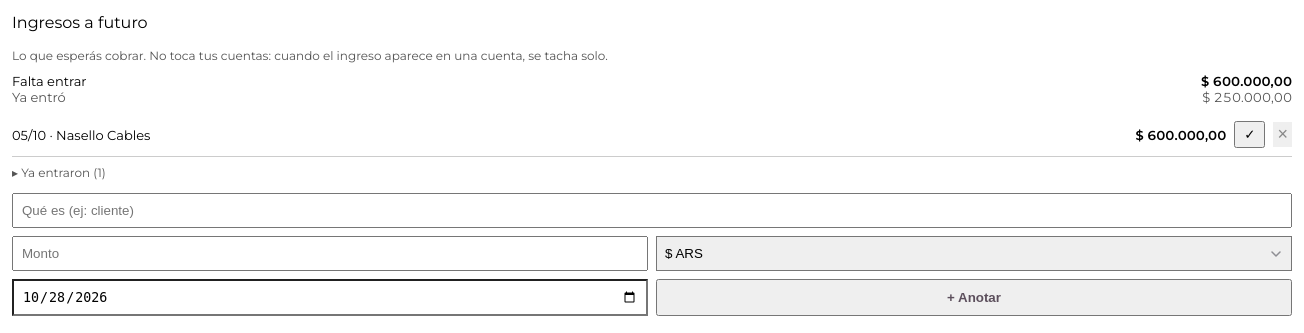
Test: borrar pide confirmación
This screenshot has width=1304, height=333.
Expected: the text "05/10 · Nasello Cables" is shown, [12, 126, 150, 142]
Click the button named "Borrar Nasello Cables" at [1283, 134], box [1274, 122, 1292, 147]
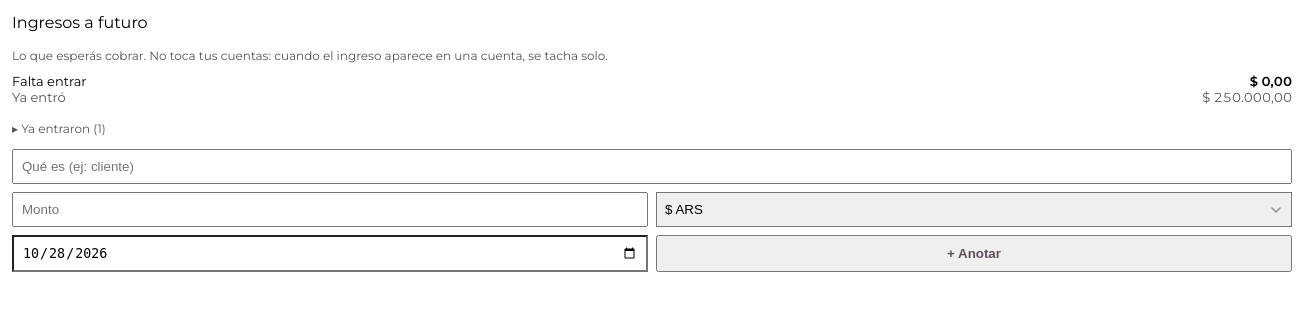
Result: the text "Nasello Cables" is gone
